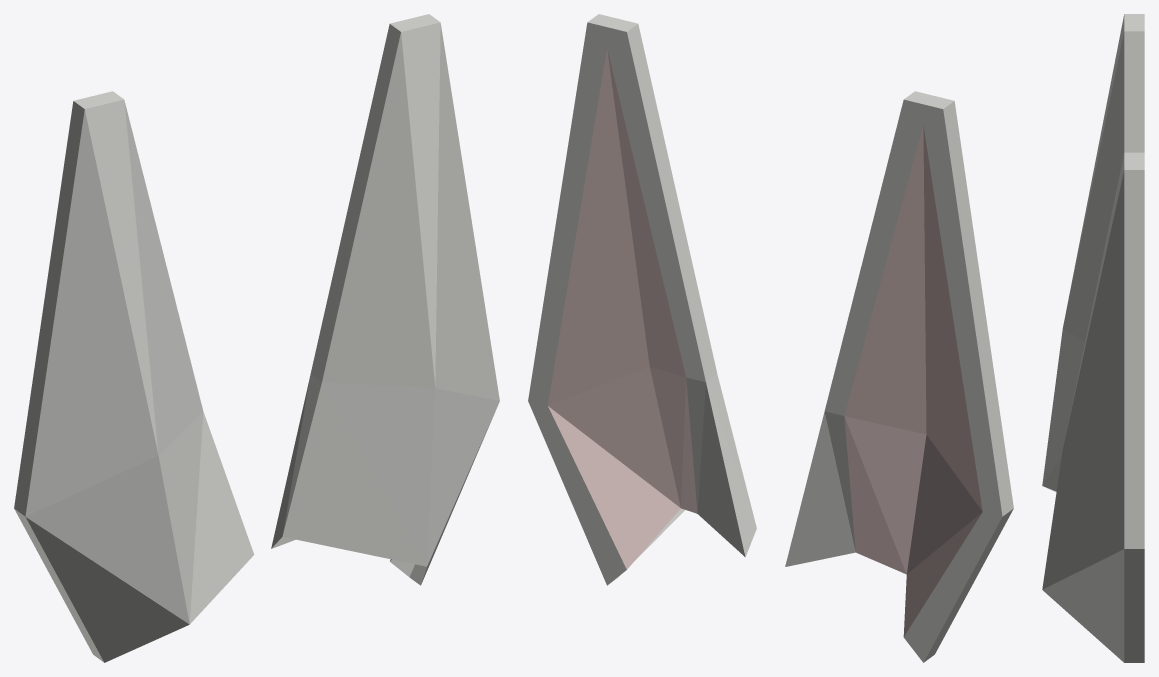
Rendered from itm_model0m_bunny_ears.obj.
3 views of the same model, side by side, from view 1: azimuth 30°, elevation 25°; view 2: azimuth 150°, elevation 25°; view 3: azimuth 270°, elevation 25° (orthographic). The views are drawn at different scales.
Size of the model in its own units: 0.1875 by 0.2109 by 0.0391.
